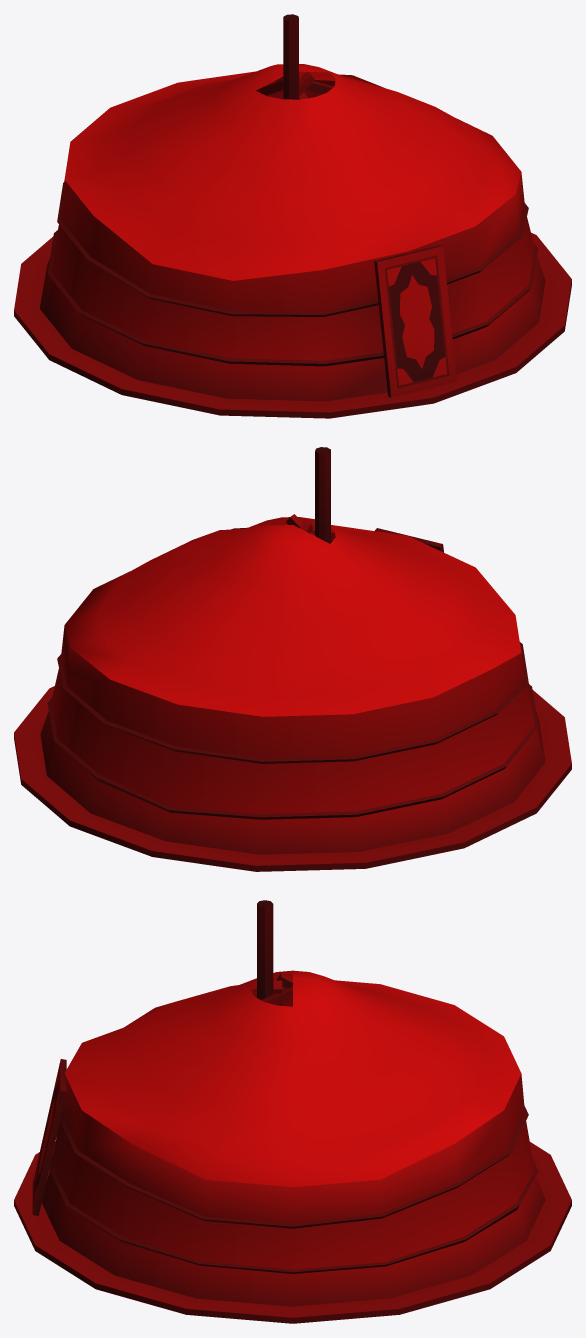
Rendered from buildings-tents-yurt_v1.fbx.
3 renders of one model, top to bottom at view 1: azimuth 30°, elevation 25°; view 2: azimuth 150°, elevation 25°; view 3: azimuth 270°, elevation 25°, orthographic.
Visible parts, largest first — view 1: Yurt_v1; view 2: Yurt_v1; view 3: Yurt_v1.
Part boxes in pixels (x1,y1,x2,y2): Yurt_v1: (14,14,571,418); Yurt_v1: (14,447,571,871); Yurt_v1: (14,900,571,1323).
Bounding box in the file's own units: 14.2 × 8.27 × 14.2.
